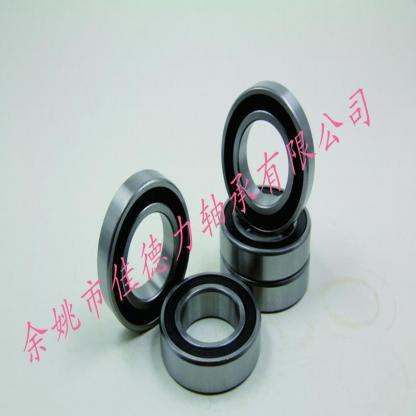FOD: (95, 165, 192, 335), (218, 76, 316, 234), (156, 269, 263, 396), (218, 178, 313, 288)
